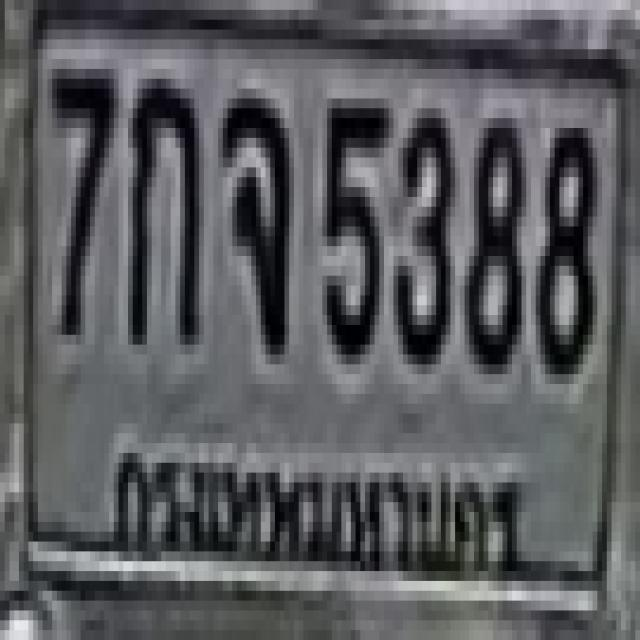-: (124, 69, 194, 335), (218, 88, 285, 344)
3: (389, 98, 450, 354)
5: (320, 88, 382, 354)
7: (47, 59, 109, 325)
8: (460, 108, 521, 364), (534, 118, 590, 364)
BKK: (98, 426, 529, 607)
